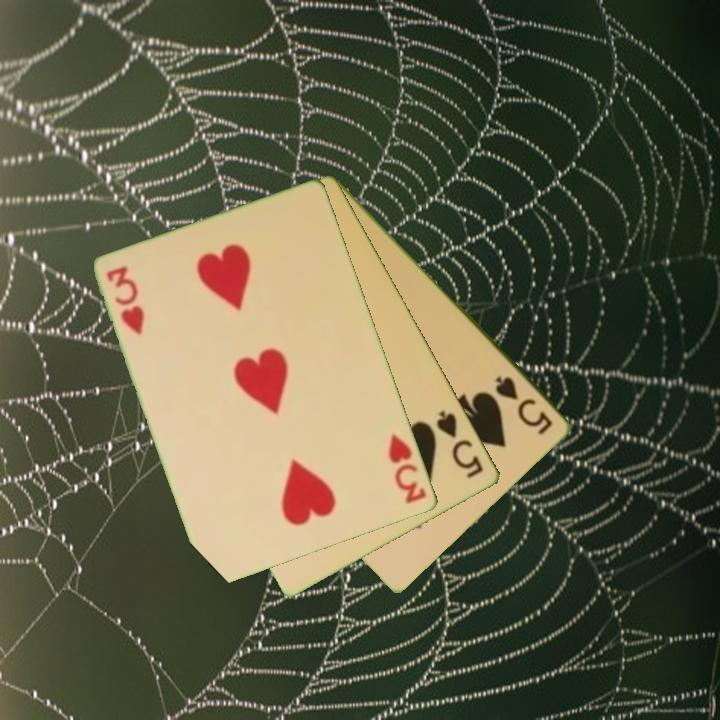3h: (385, 431, 430, 507), (103, 263, 148, 339)
5s: (492, 372, 557, 439), (433, 407, 487, 482)
